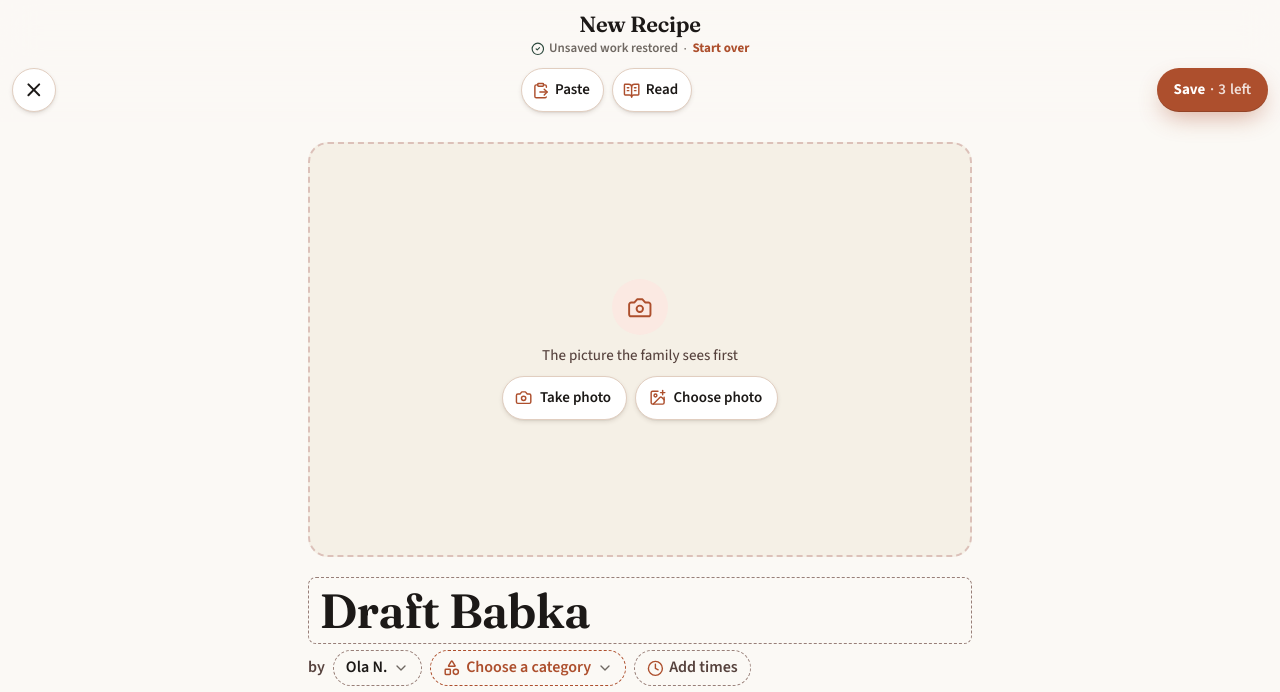
Test: the editor laid out as the recipe page › offers Start over after the restored-work line, not in the row of keys
Step 1. Click the button "Start over" → (721, 49), box 692,39 -> 749,59
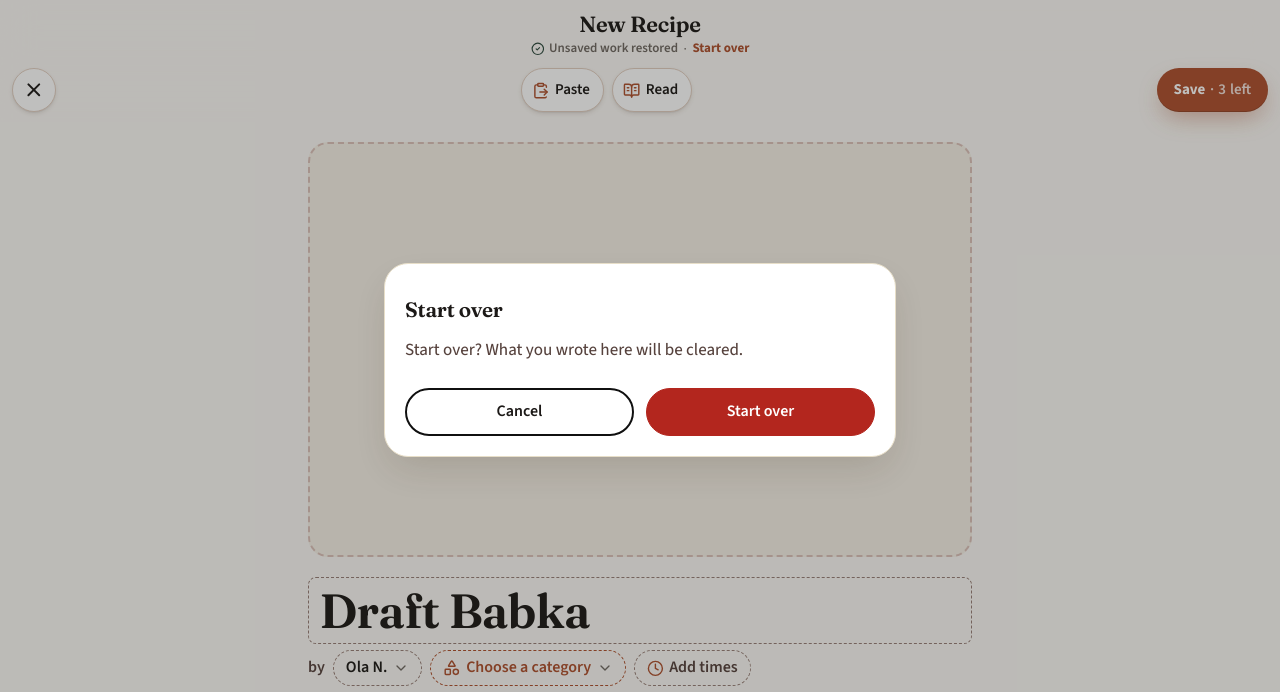
Now the dialog "Start over" is shown, box 384,263 -> 896,457
